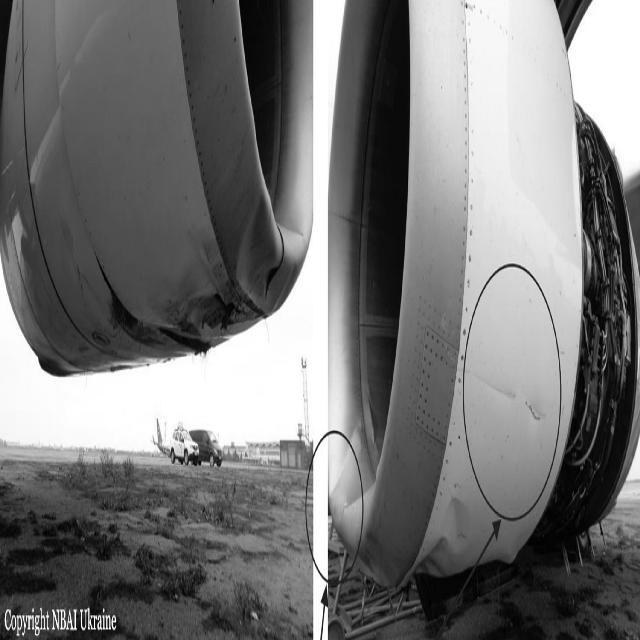crack: (524, 397, 543, 430)
dent: (415, 497, 472, 584)
